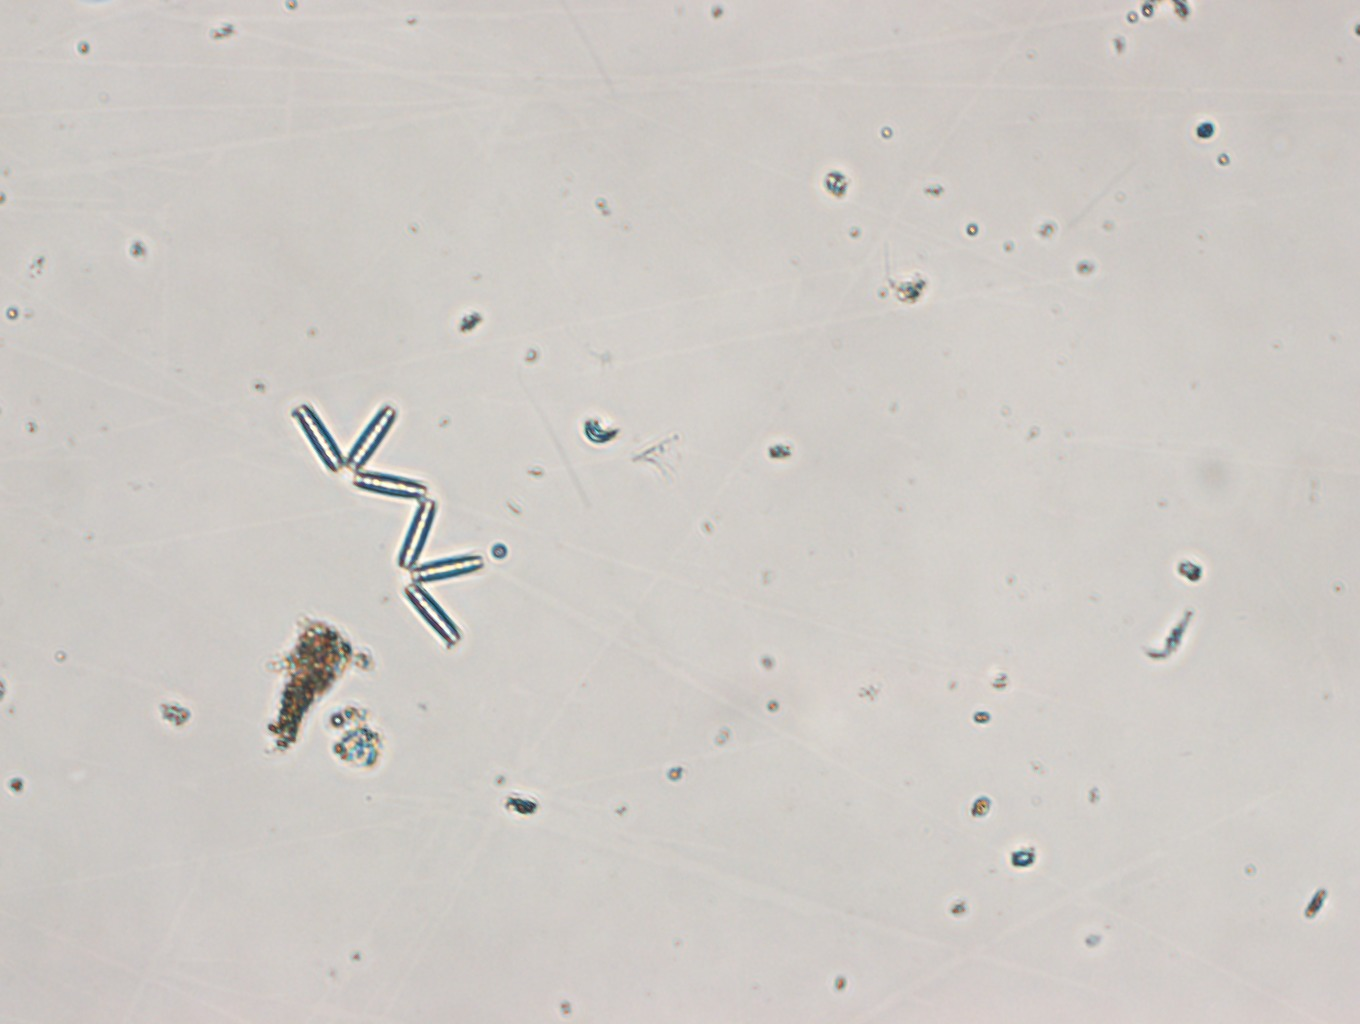thalassionema nitzschioides: (290, 401, 487, 644)
